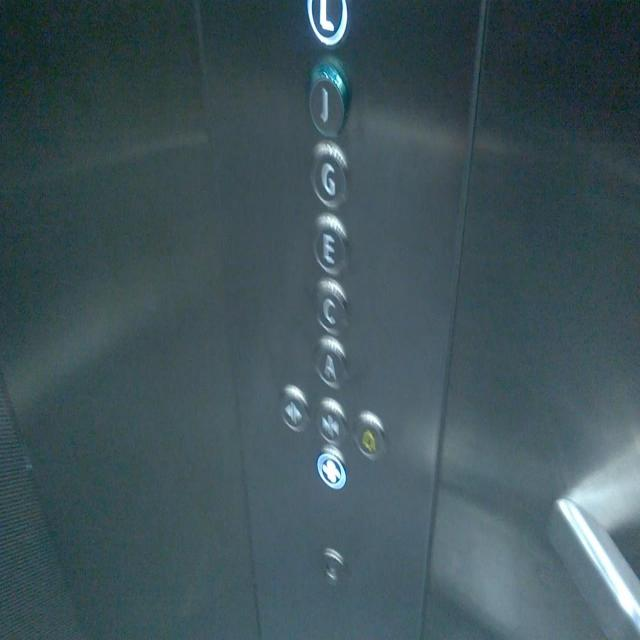A: (311, 331, 352, 388)
C: (312, 274, 352, 335)
E: (311, 209, 350, 277)
G: (308, 140, 350, 208)
J: (306, 60, 350, 140)
alarm: (354, 412, 386, 462)
close: (316, 395, 346, 448)
fan: (316, 446, 348, 494)
open: (281, 382, 308, 439)
